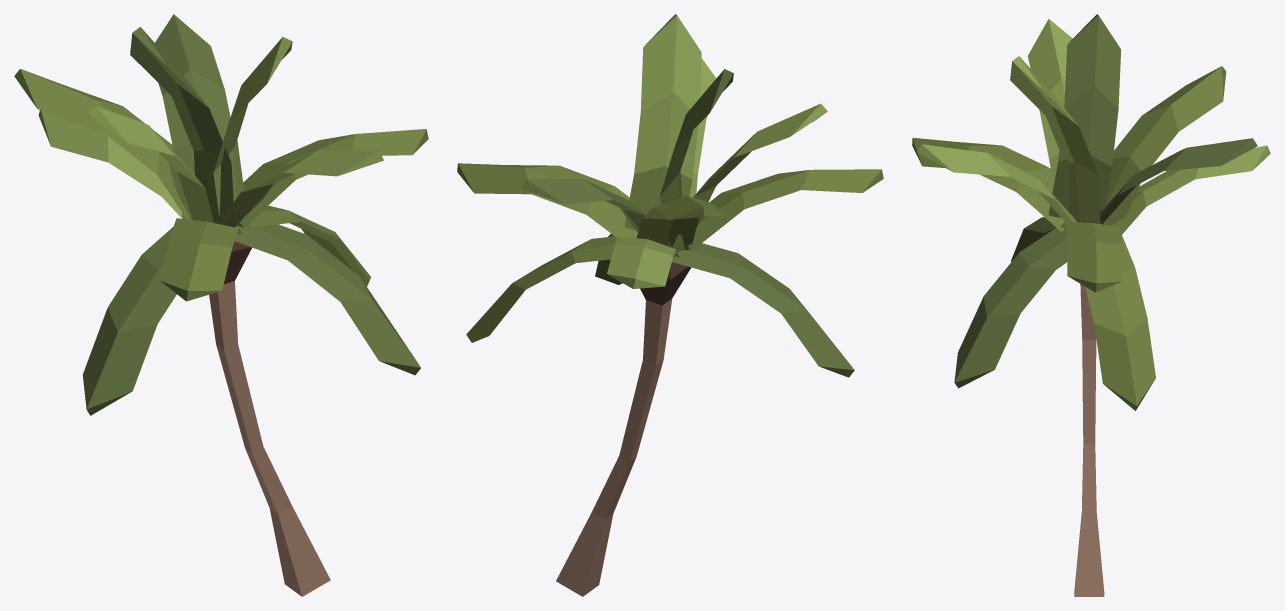
File: Tree_Type7_02.glb
3 renders of one model, left to right at view 1: azimuth 30°, elevation 25°; view 2: azimuth 150°, elevation 25°; view 3: azimuth 270°, elevation 25°, orthographic. The views are drawn at different scales.
Parts seen in each view (by area): view 1: Tree Type7 02 Model; view 2: Tree Type7 02 Model; view 3: Tree Type7 02 Model.
Part boxes in pixels (x1=…): Tree Type7 02 Model: x1=14, y1=14, x2=428, y2=596; Tree Type7 02 Model: x1=457, y1=14, x2=883, y2=596; Tree Type7 02 Model: x1=912, y1=14, x2=1270, y2=596.
Bounding box in the file's own units: 2.95 × 4.4 × 2.77.
1 material, 1 textured.
